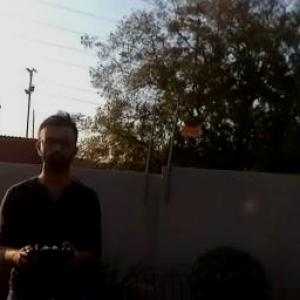follow: (0, 105, 112, 299)
